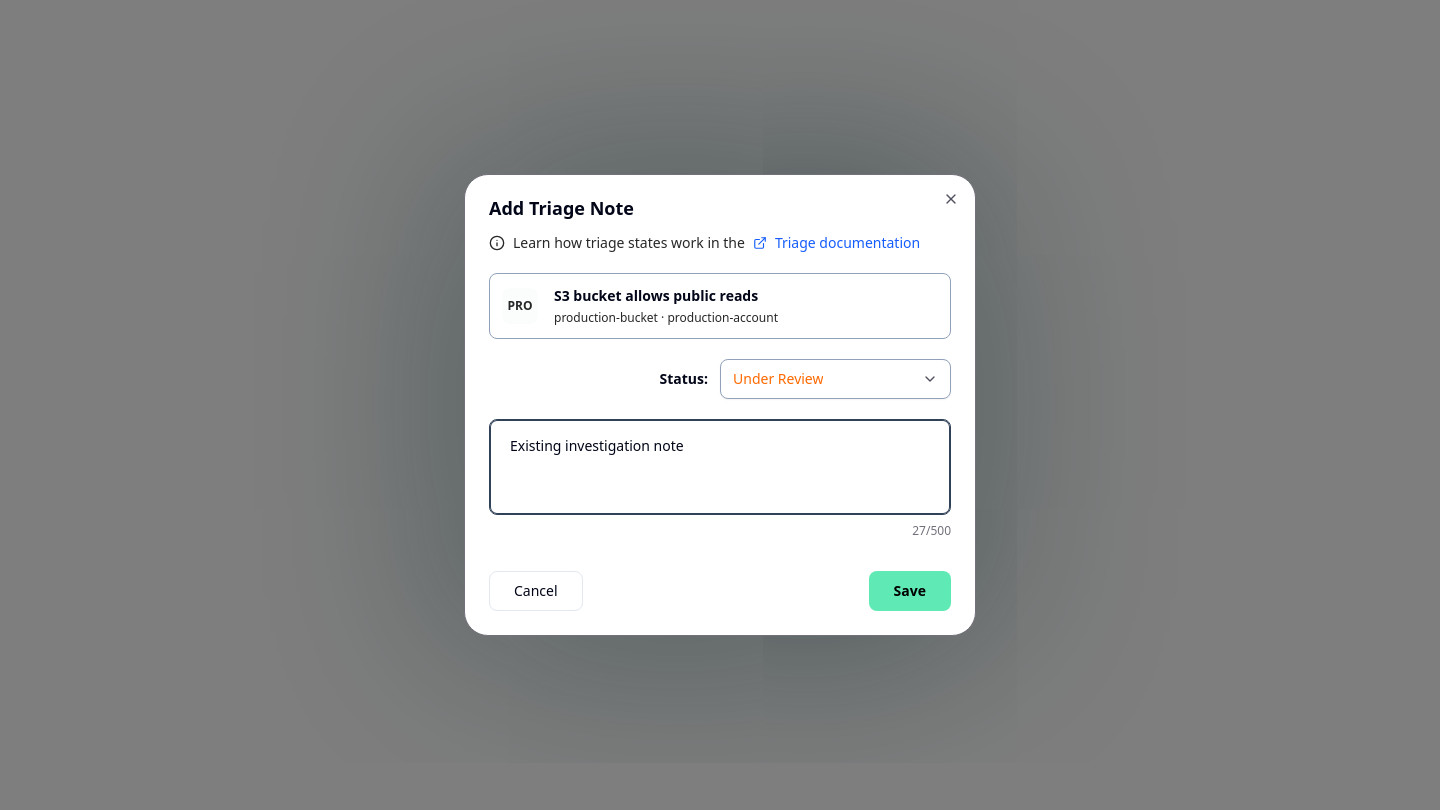
it: FindingNoteModal › should keep the modal open and show an error when note update fails
The image size is (1440, 810).
Replace the text in the text box named "Note text" with "Changed note": (720, 467) [489,419,951,515]
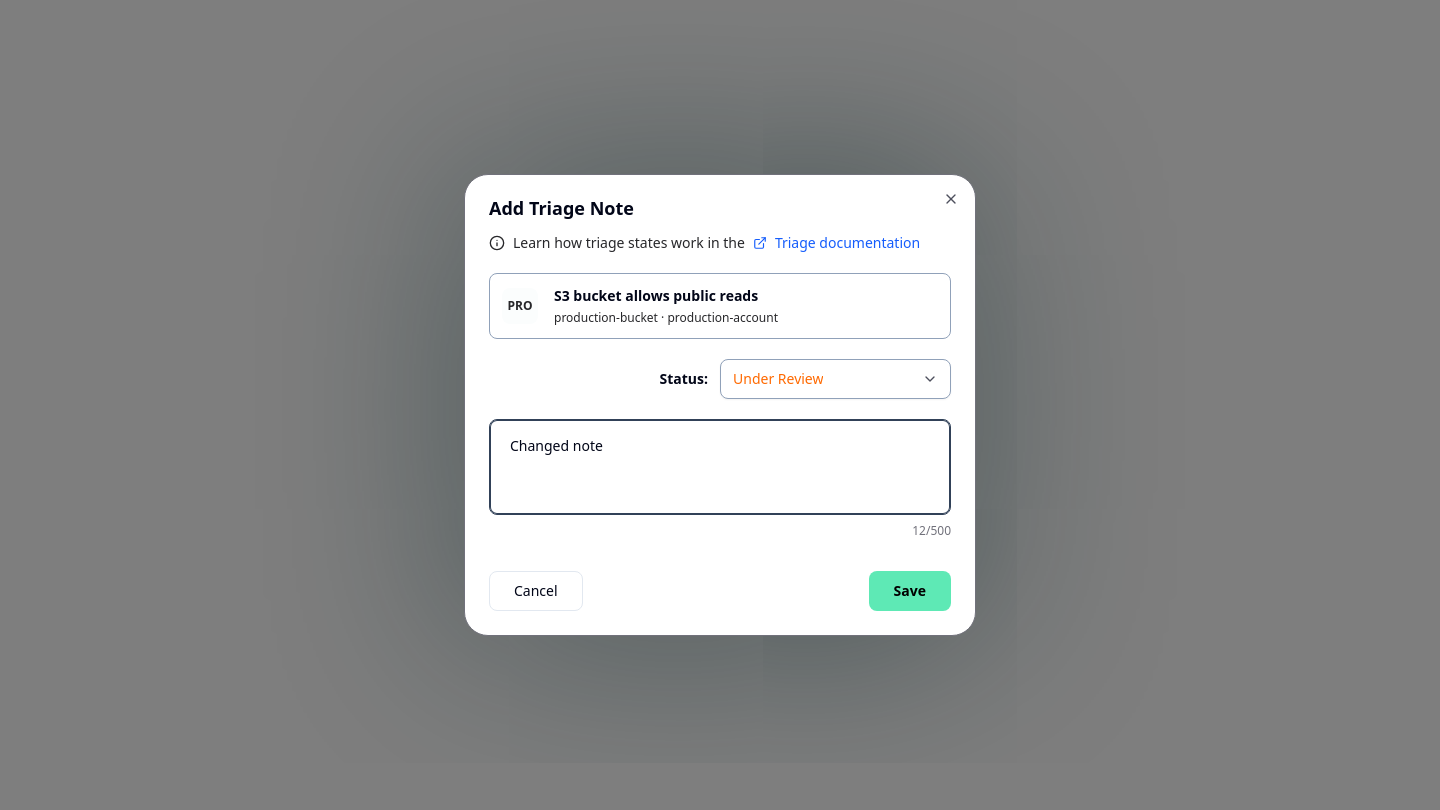
Click the button "Save": (910, 591) [869,571,951,611]
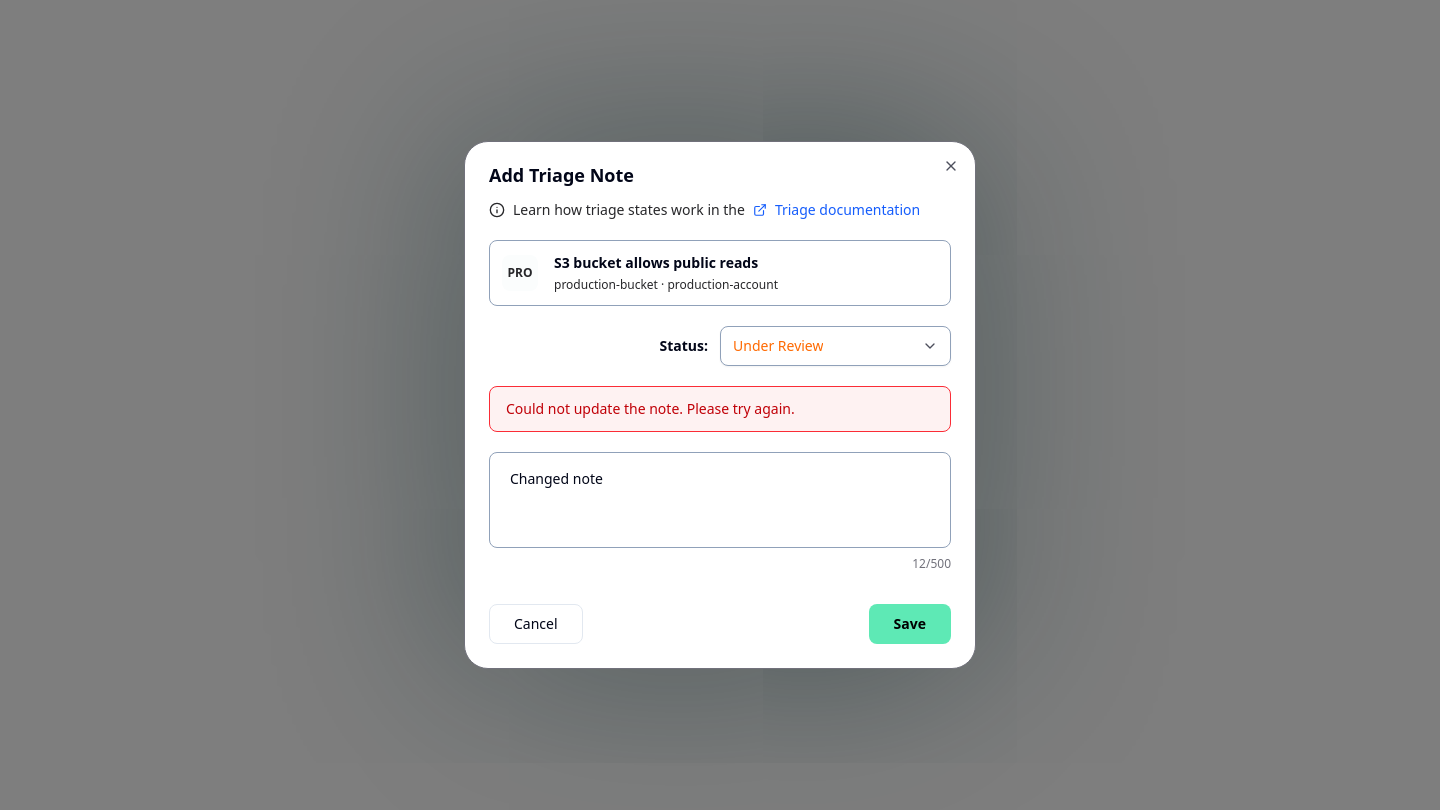
expect the dialog "Add Triage Note" is shown: met, box [464,141,976,669]
expect the text "Could not update the note. Please try again." is shown: met, box [506,399,795,418]
